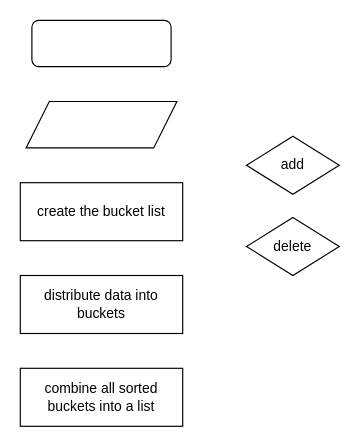
Image size: 360x447. Some labels were removed from this diagram. Each missing label, with the box of its shape:
home pages: (25, 100, 177, 148)
start: (31, 19, 171, 67)
